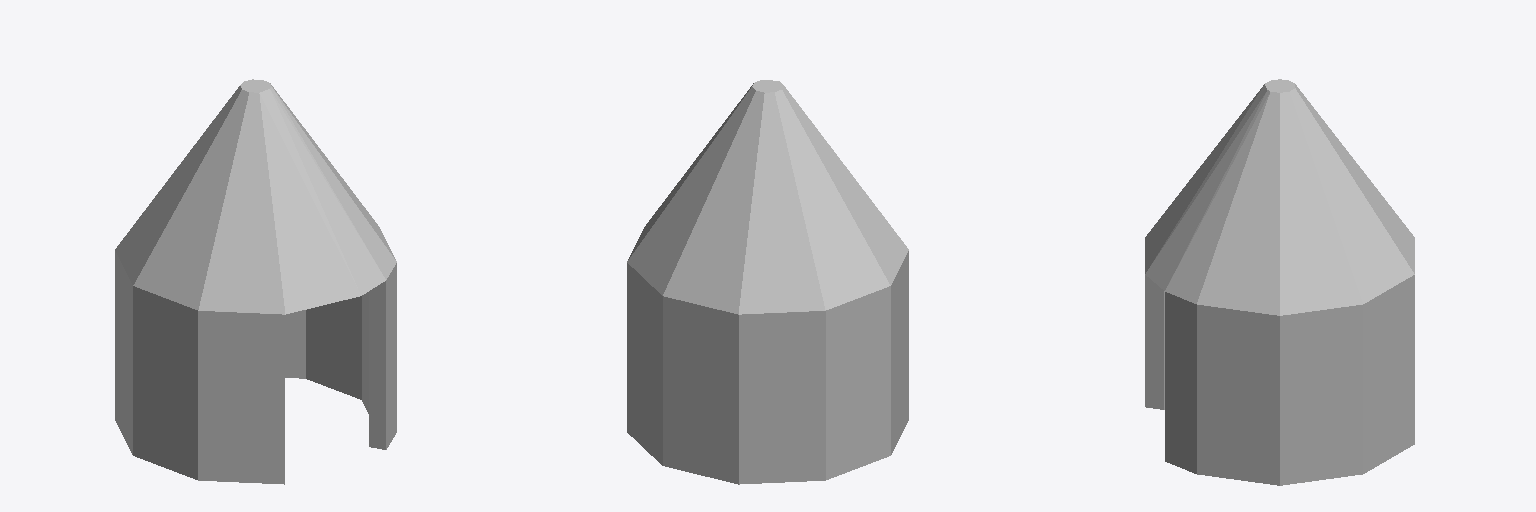
Rendered from ModelosEscenarioCastilloCollider.obj.
3 renders of one model, left to right at view 1: azimuth 30°, elevation 25°; view 2: azimuth 150°, elevation 25°; view 3: azimuth 270°, elevation 25°, orthographic.
Parts seen in each view (by area): view 1: Cylinder001; view 2: Cylinder001; view 3: Cylinder001.
Boxes of the visible parts, x1,y1,x2,y2 form: Cylinder001: [115, 79, 396, 484]; Cylinder001: [627, 80, 908, 484]; Cylinder001: [1145, 79, 1414, 485].
Size of the model in its own units: 3.58 by 4.73 by 3.4.